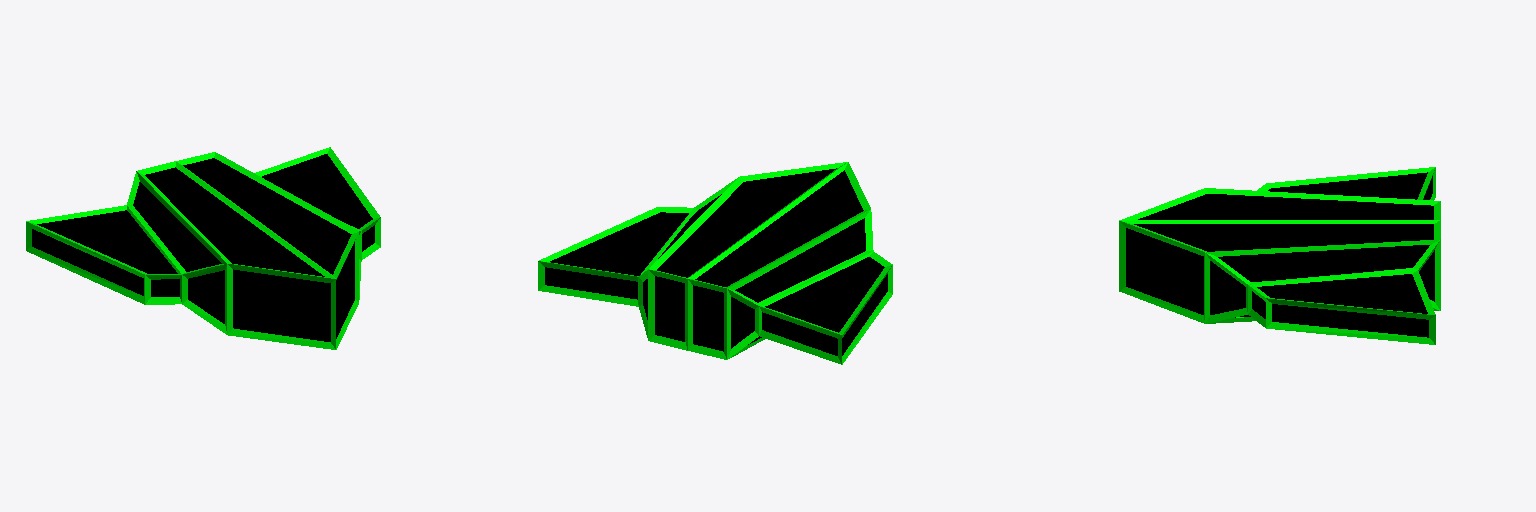
The model's file is ship_wire.obj.
The picture shows the model from 3 angles: view 1: azimuth 30°, elevation 25°; view 2: azimuth 150°, elevation 25°; view 3: azimuth 270°, elevation 25°; orthographic projection.
Visible parts, largest first — view 1: Cube, Cube.001; view 2: Cube, Cube.001; view 3: Cube, Cube.001.
Boxes of the visible parts, box(x1,y1,x2,y2) form: Cube: box(32, 154, 374, 341); Cube.001: box(26, 147, 380, 349); Cube: box(545, 168, 887, 355); Cube.001: box(538, 162, 892, 364); Cube: box(1126, 172, 1434, 337); Cube.001: box(1119, 167, 1440, 344).
Bounding box in the file's own units: 2.34 × 0.5296 × 2.14.